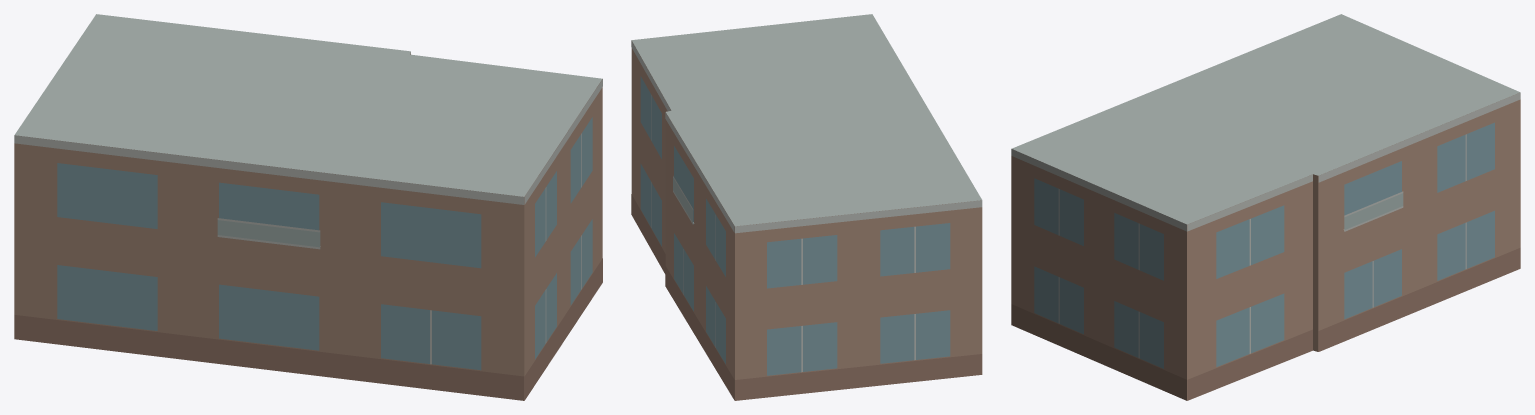
File: survey-upis-32878466.glb
3 renders of one model, left to right at view 1: azimuth 30°, elevation 25°; view 2: azimuth 150°, elevation 25°; view 3: azimuth 270°, elevation 25°, orthographic. The views are drawn at different scales.
Parts seen in each view (by area): view 1: survey-upis-32878466.tmp; view 2: survey-upis-32878466.tmp; view 3: survey-upis-32878466.tmp.
Boxes of the visible parts, x1,y1,x2,y2 form: survey-upis-32878466.tmp: [14, 14, 602, 400]; survey-upis-32878466.tmp: [631, 14, 982, 400]; survey-upis-32878466.tmp: [1011, 14, 1520, 400].
Size of the model in its own units: 15.63 by 6.1 by 15.97.
